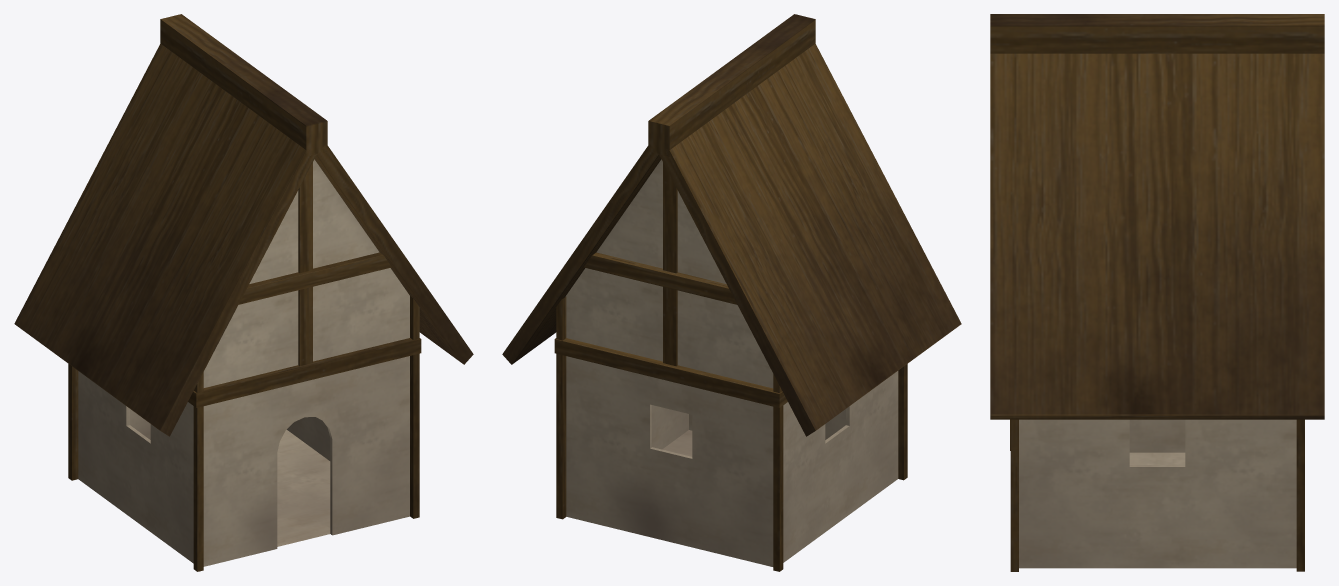
The model's file is house_3_2.fbx.
The picture shows the model from 3 angles, left to right: view 1: azimuth 30°, elevation 25°; view 2: azimuth 150°, elevation 25°; view 3: azimuth 270°, elevation 25°; orthographic projection. The views are drawn at different scales.
Parts seen in each view (by area): view 1: house3; view 2: house3; view 3: house3.
Part boxes in pixels (left/top/right/bottom): house3: left=14, top=14, right=473, bottom=571; house3: left=502, top=14, right=961, bottom=571; house3: left=990, top=14, right=1324, bottom=571.
Size of the model in its own units: 2.3 by 3 by 1.85.
1 material, 1 textured.
